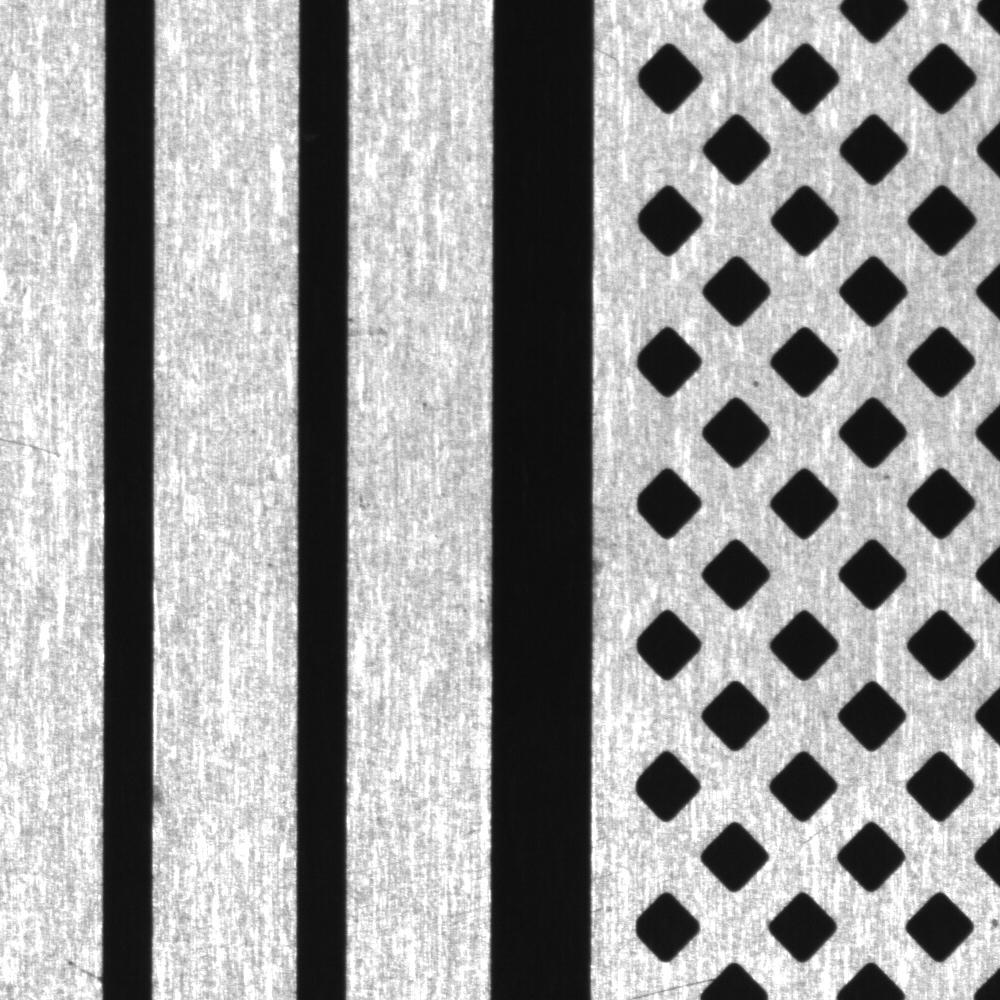Etching: (149, 770, 170, 825)
Scar: (604, 971, 716, 999), (1, 425, 67, 464), (783, 816, 841, 855), (56, 950, 106, 984)
